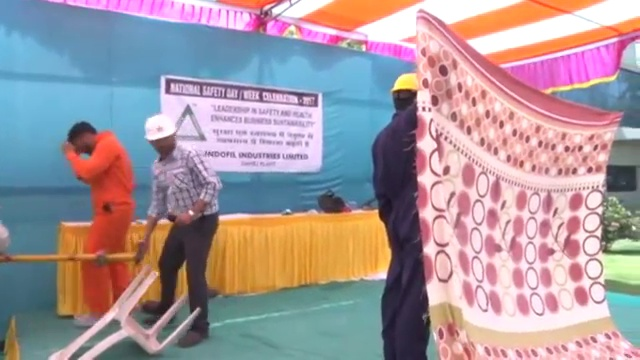helmet: (142, 113, 177, 142), (390, 71, 419, 92)
helmet_off: (62, 121, 95, 152)
helmet_on: (140, 112, 179, 159), (389, 71, 421, 117)
person: (139, 112, 221, 348), (370, 70, 430, 360), (57, 119, 132, 327)
